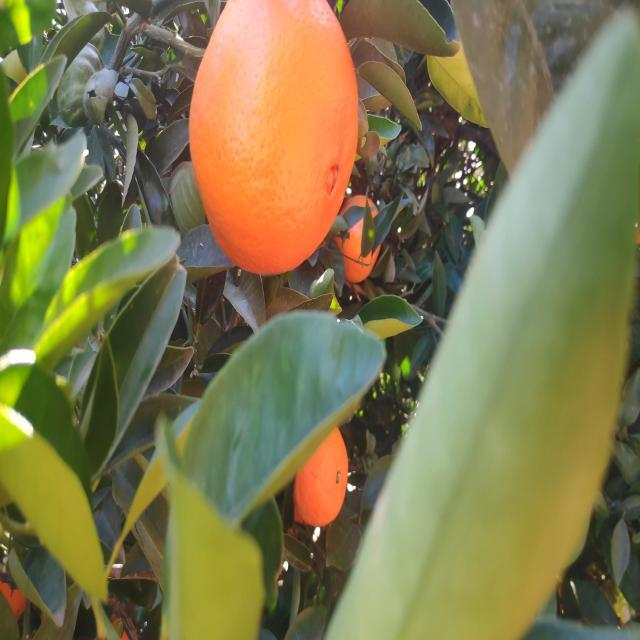Jeruk Sudah Matang: (369, 187, 640, 358)
